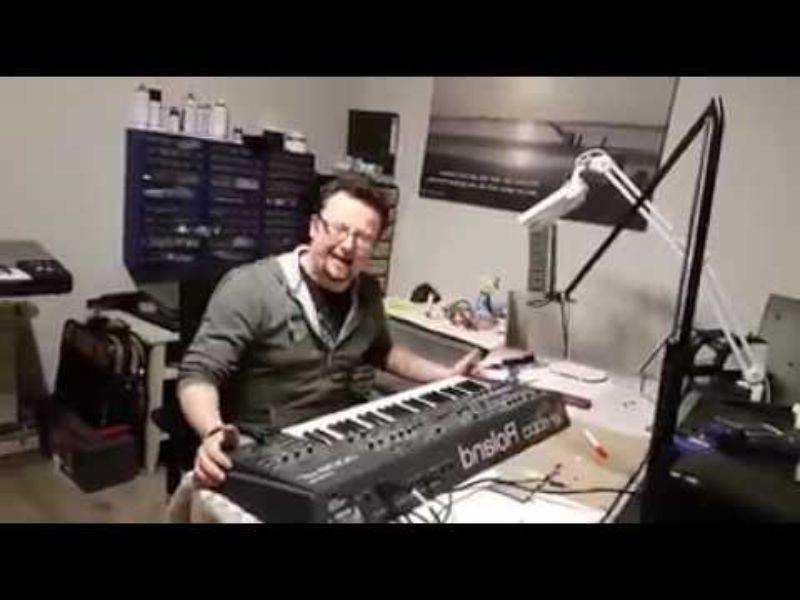synthesizer: (229, 385, 595, 510)
